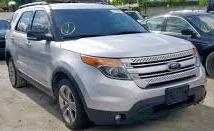SUV: (5, 4, 205, 129)
